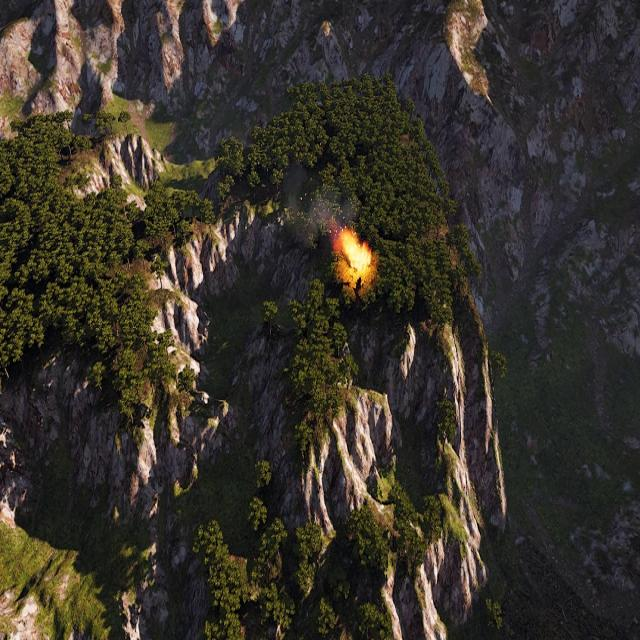fire: (341, 230, 372, 276)
smoke: (281, 156, 353, 244)
